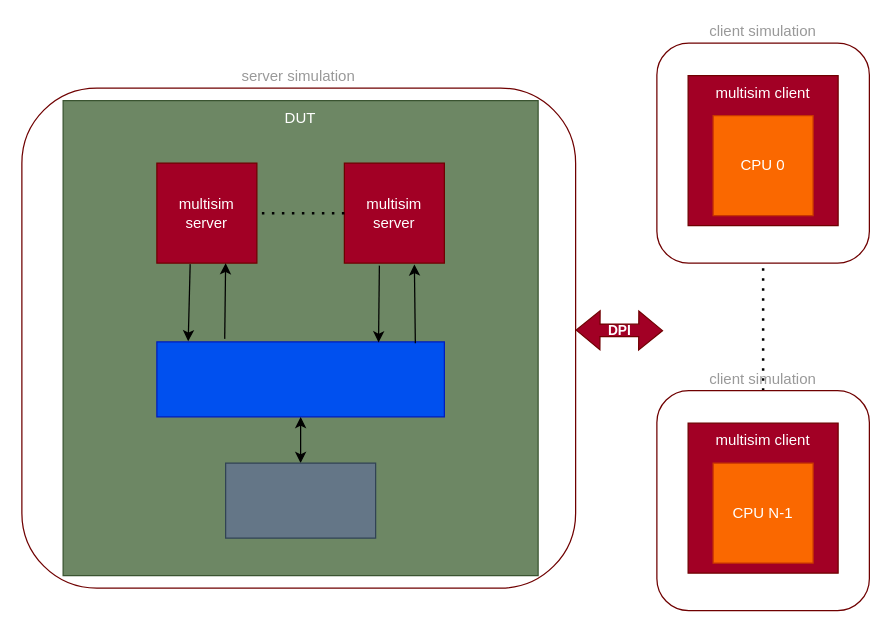
Image size: 891x633. Some labels were removed from this diagram. The centre of each missing label's shape, as x and y in pixels:
"DDR controller" goes at pixel 300 500.
"NOC" goes at pixel 300 379.
